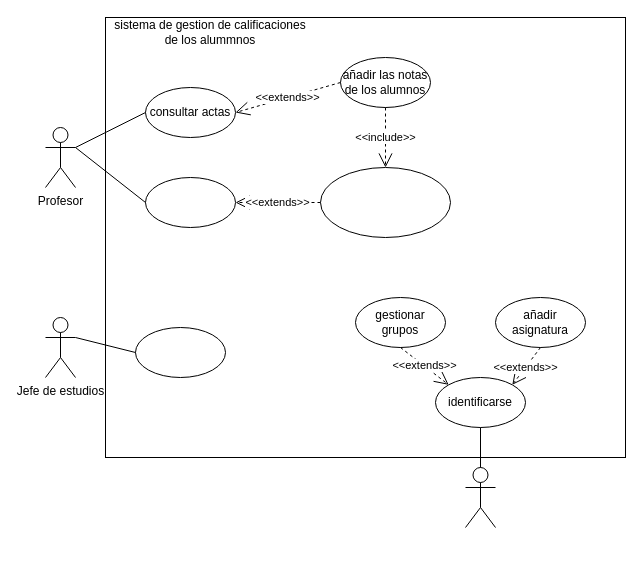
The diagram is 643 pixels wide and 566 high, and some of its shapes have lost their labels. Each missing label, with the box of its shape:
abrir calculadora para calcular notas: (320, 166, 450, 238)
Administrador: (464, 466, 496, 528)
consultar informacion de alumnos: (144, 176, 236, 228)
exportar e imprimir las actas: (134, 326, 226, 378)
